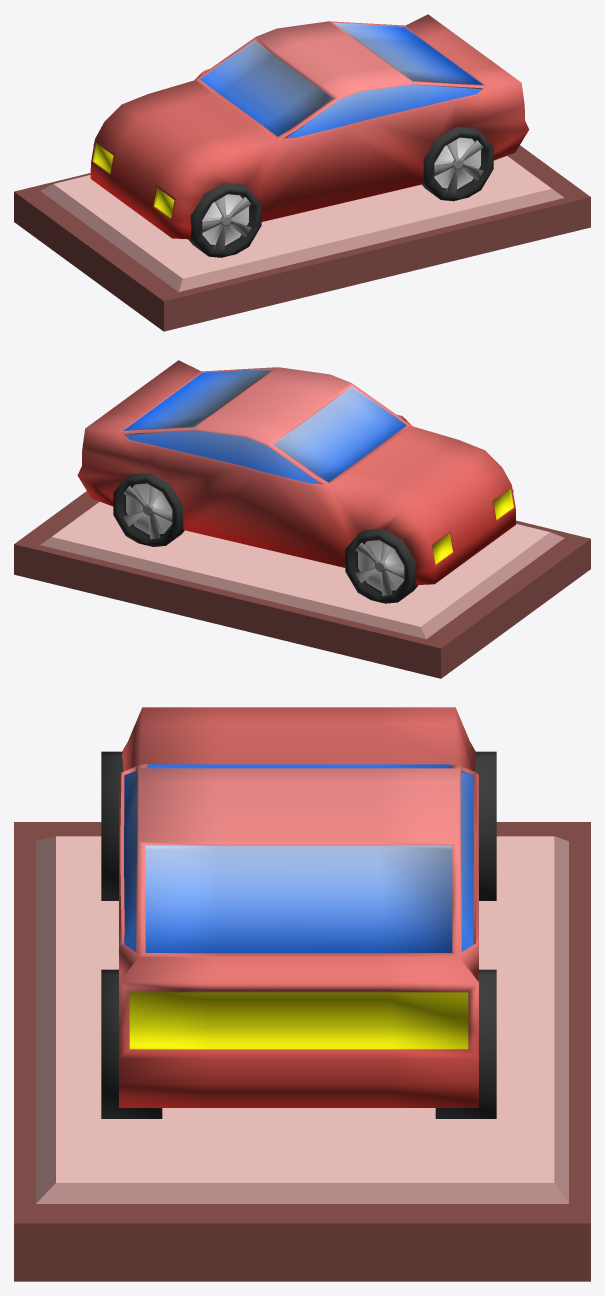
Rendered from Car_Decor_Red.fbx.
The picture shows the model from 3 angles, top to bottom: view 1: azimuth 30°, elevation 25°; view 2: azimuth 150°, elevation 25°; view 3: azimuth 270°, elevation 25°; orthographic projection. The views are drawn at different scales.
Visible parts, largest first — view 1: Car_Decor_Red; view 2: Car_Decor_Red; view 3: Car_Decor_Red.
Boxes of the visible parts, x1,y1,x2,y2 form: Car_Decor_Red: (14,14,590,331); Car_Decor_Red: (14,360,590,678); Car_Decor_Red: (14,707,590,1281).
Size of the model in its own units: 0.5068 by 0.1845 by 0.308.
